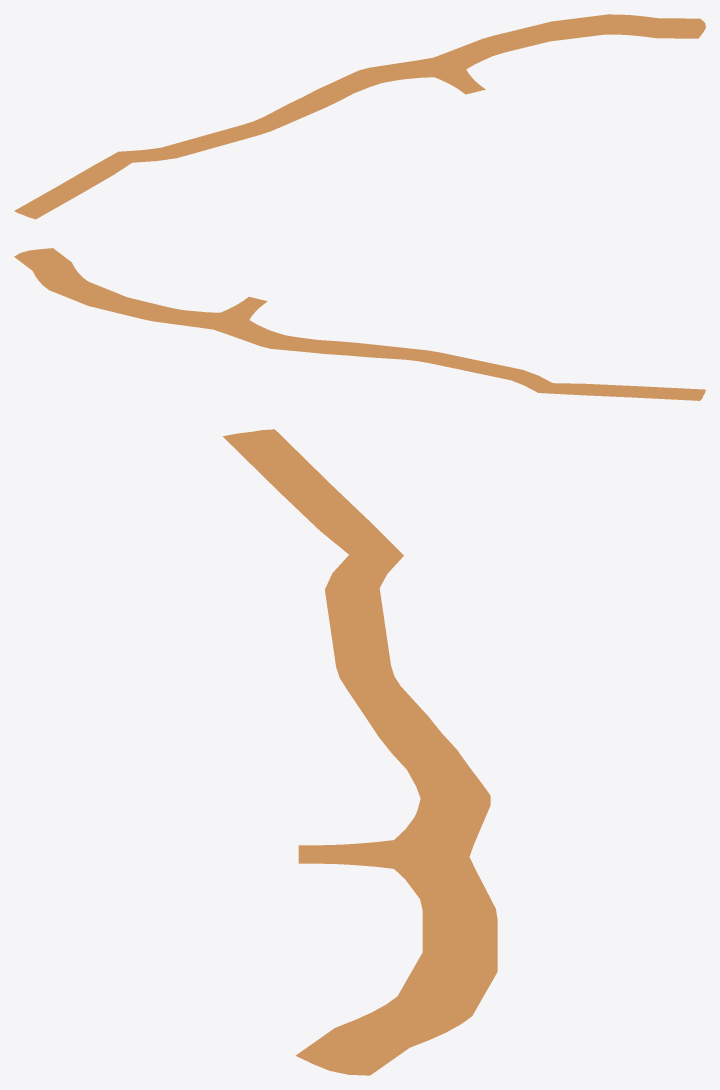
File: road.glb
The picture shows the model from 3 angles, top to bottom: view 1: azimuth 30°, elevation 25°; view 2: azimuth 150°, elevation 25°; view 3: azimuth 270°, elevation 25°; orthographic projection. The views are drawn at different scales.
Parts seen in each view (by area): view 1: DirtRoad.001; view 2: DirtRoad.001; view 3: DirtRoad.001.
Part boxes in pixels (bbox=[...]): DirtRoad.001: bbox=[14, 14, 705, 219]; DirtRoad.001: bbox=[14, 248, 705, 400]; DirtRoad.001: bbox=[223, 429, 497, 1075].
Bounding box in the file's own units: 139 × 3.73e-09 × 24.99.
